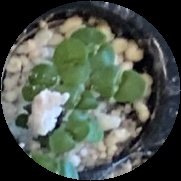Basil: (91, 67, 146, 105), (75, 30, 117, 65), (48, 120, 88, 156), (58, 39, 85, 89), (18, 65, 50, 100)
